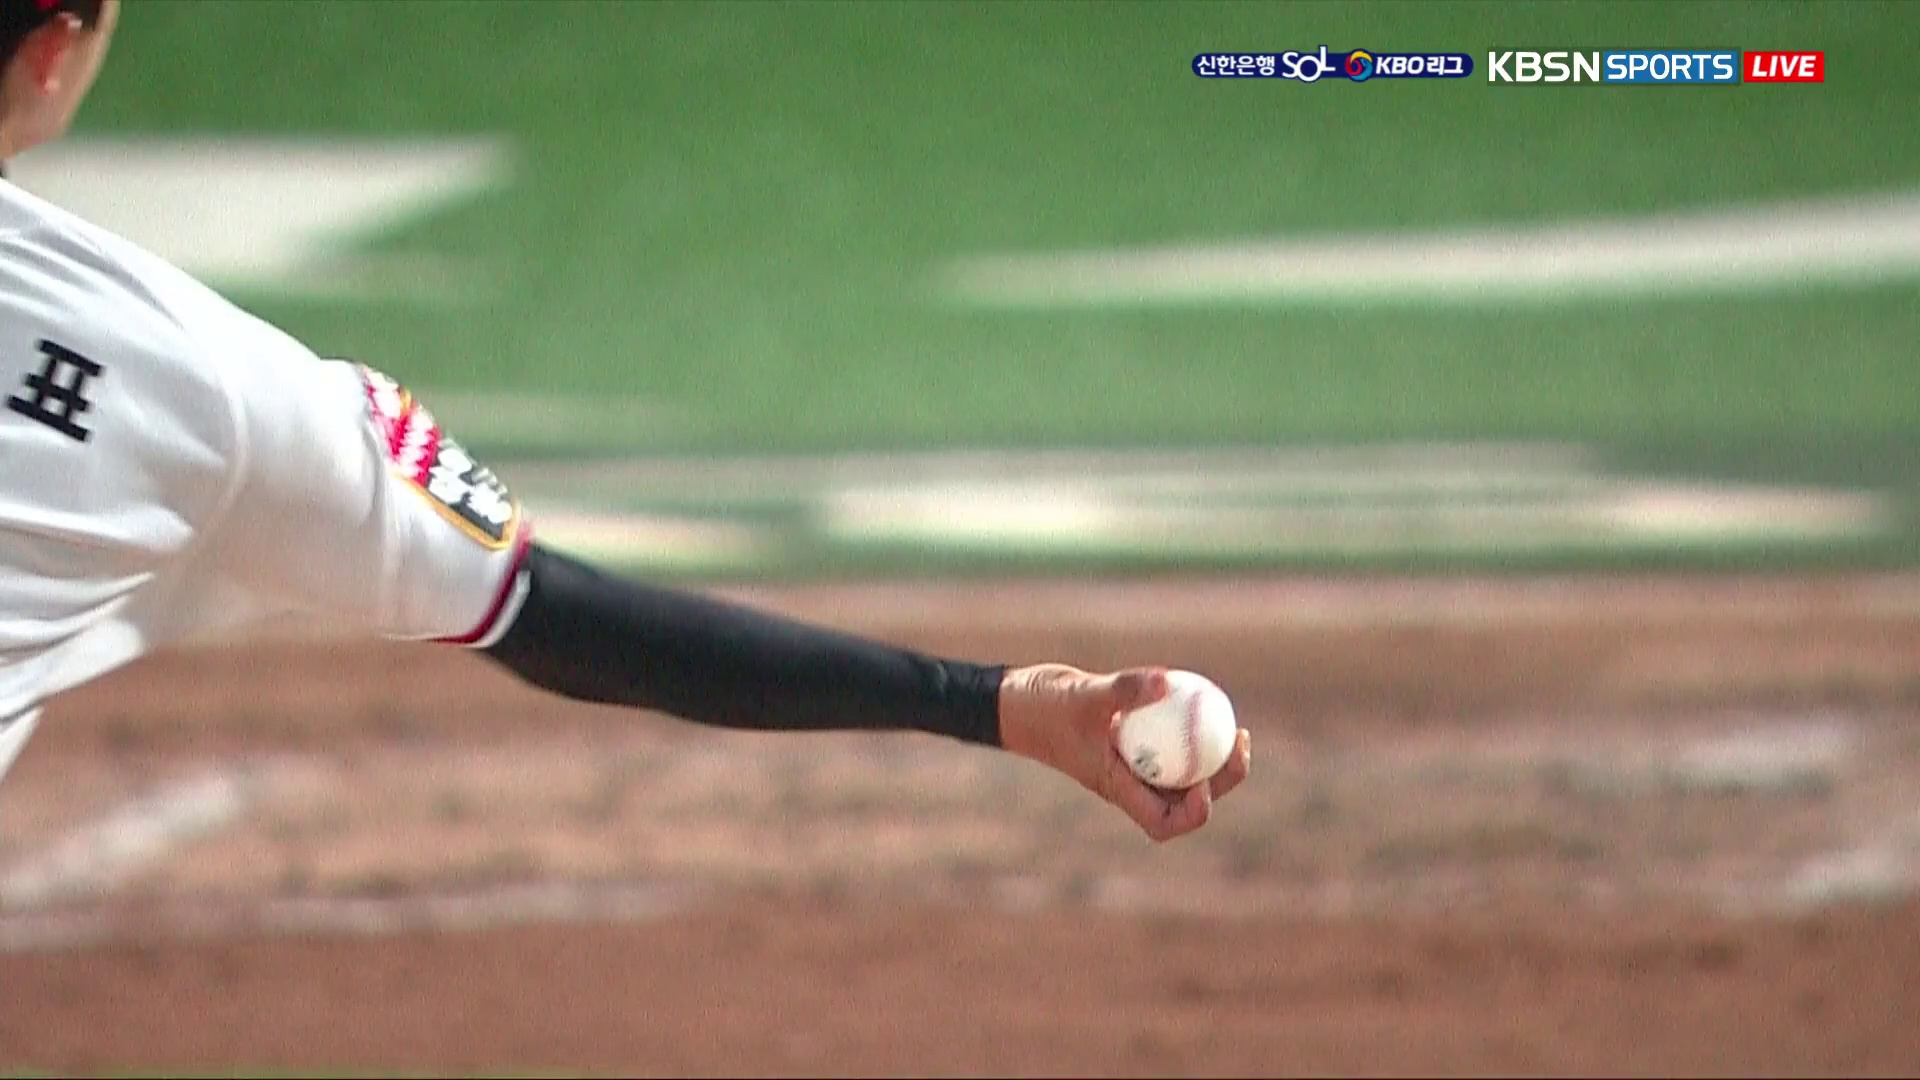zoomin_hand: (506, 487, 1257, 853)
